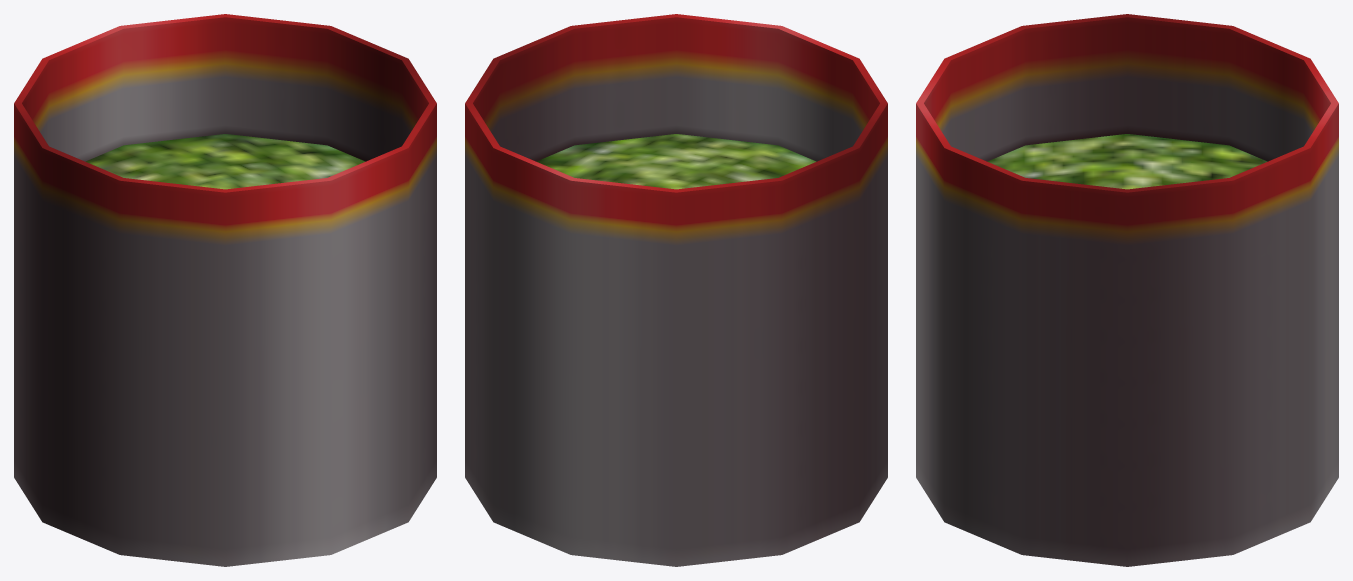
The model's file is jsf_Ingredient_Leek_01.fbx.
3 renders of one model, left to right at view 1: azimuth 30°, elevation 25°; view 2: azimuth 150°, elevation 25°; view 3: azimuth 270°, elevation 25°, orthographic.
Parts seen in each view (by area): view 1: jsf_Ingredient_Leek_01; view 2: jsf_Ingredient_Leek_01; view 3: jsf_Ingredient_Leek_01.
Boxes of the visible parts, x1,y1,x2,y2 form: jsf_Ingredient_Leek_01: (14,14,436,566); jsf_Ingredient_Leek_01: (465,14,887,566); jsf_Ingredient_Leek_01: (916,14,1338,566).
Size of the model in its own units: 12.71 by 12.41 by 12.71.
